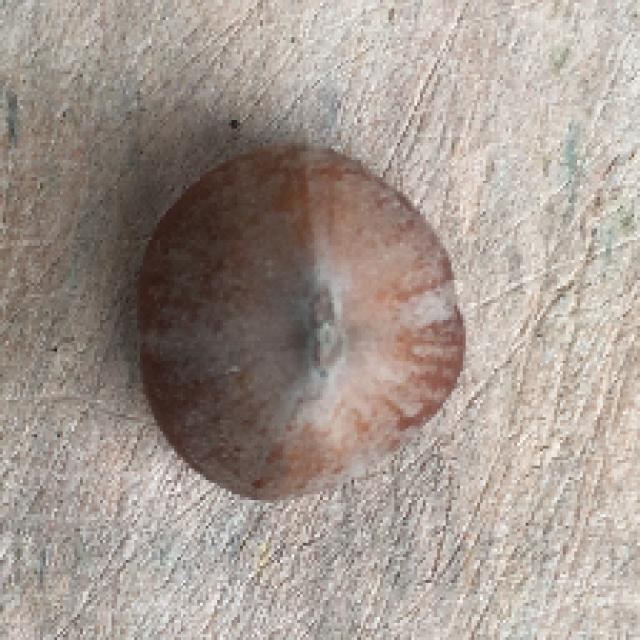qualityHazelnut: (131, 141, 467, 502)
